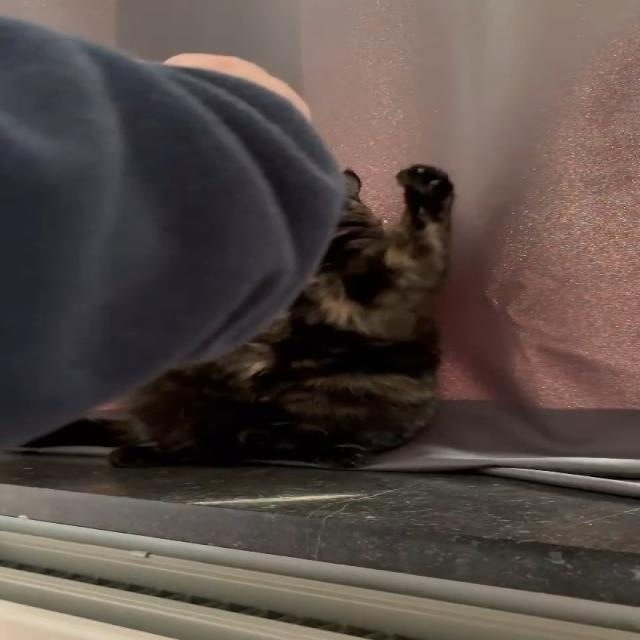authorized: (92, 163, 456, 469)
